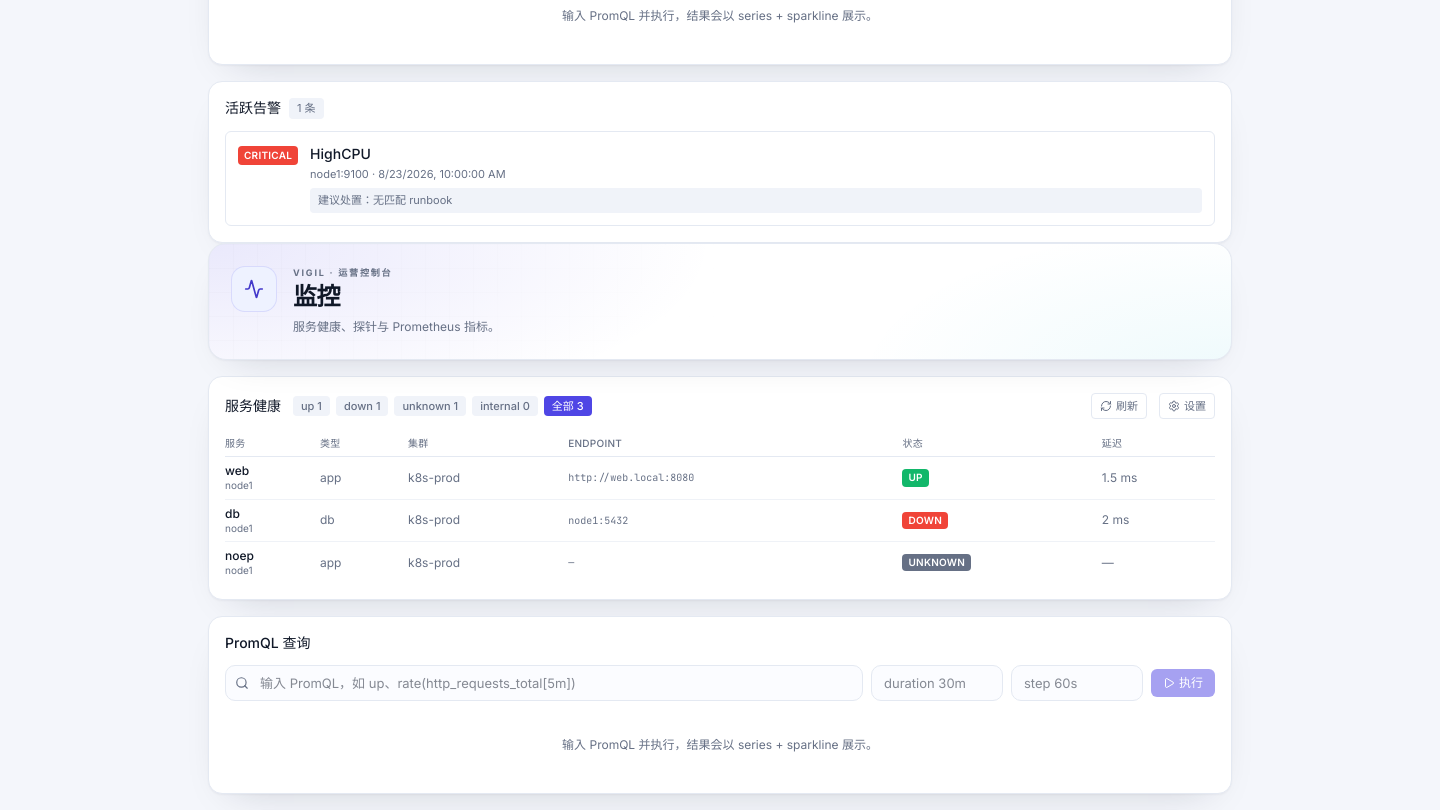
Test: MonitoringPage 连接测试（task31 PART A） › 失败目标渲染 ✗ + 错误信息
(page scrolled)
Click the button "设置" at (1187, 406), box [1159,393,1215,419]
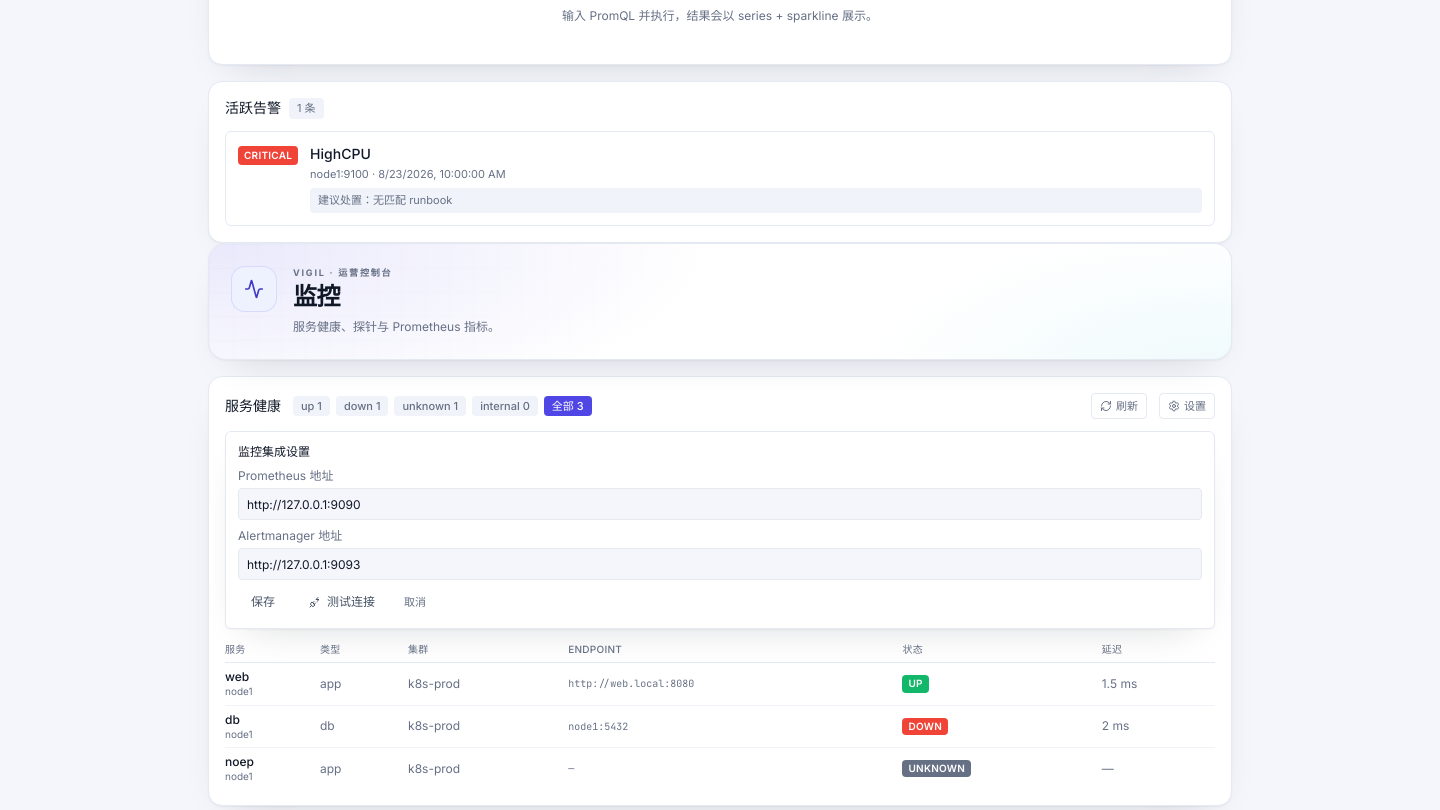
Result: the button with test id "monitoring-test-connection" is shown
Click the button with test id "monitoring-test-connection" at (342, 602), box [296,588,388,616]
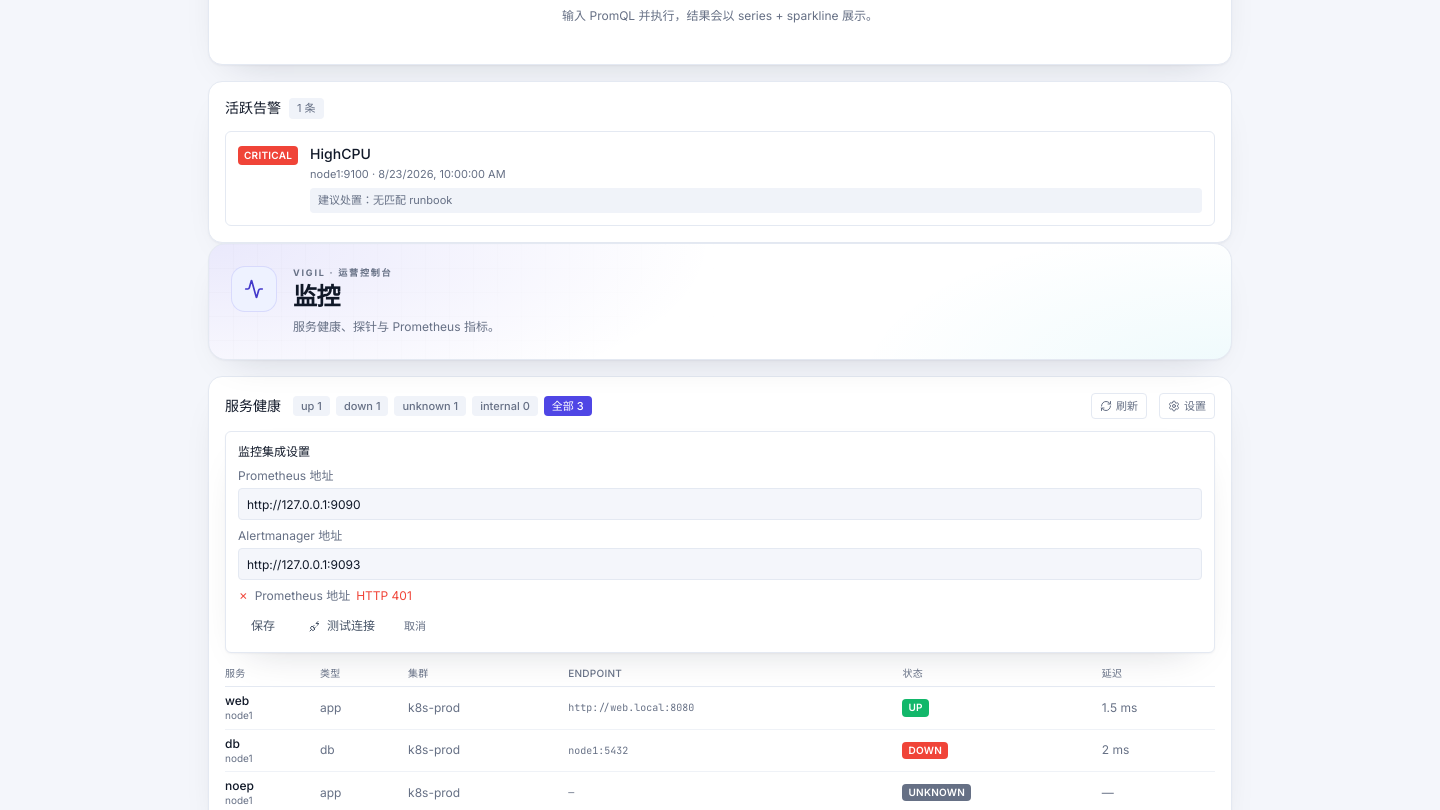
Result: the element with test id "monitoring-validate-results" shows "✗" at [238,588,249,603]
Result: the element with test id "monitoring-validate-results" shows "HTTP 401" at [356,588,412,603]
